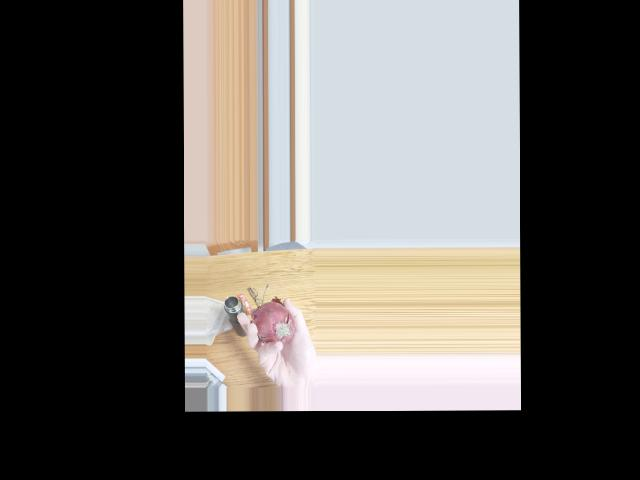onion: (256, 303, 294, 345)
